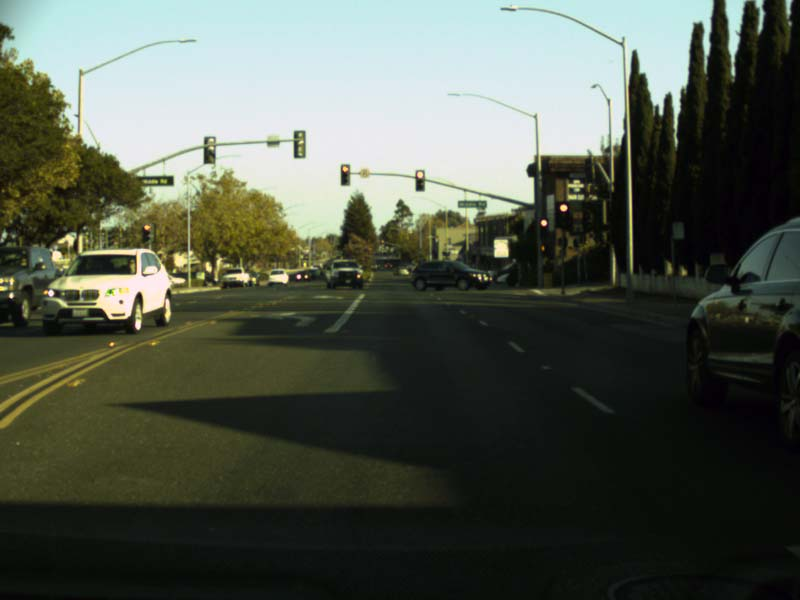Red: (555, 201, 570, 228), (339, 163, 350, 186), (414, 169, 425, 191), (539, 217, 548, 236), (142, 223, 151, 241), (379, 238, 384, 246)
